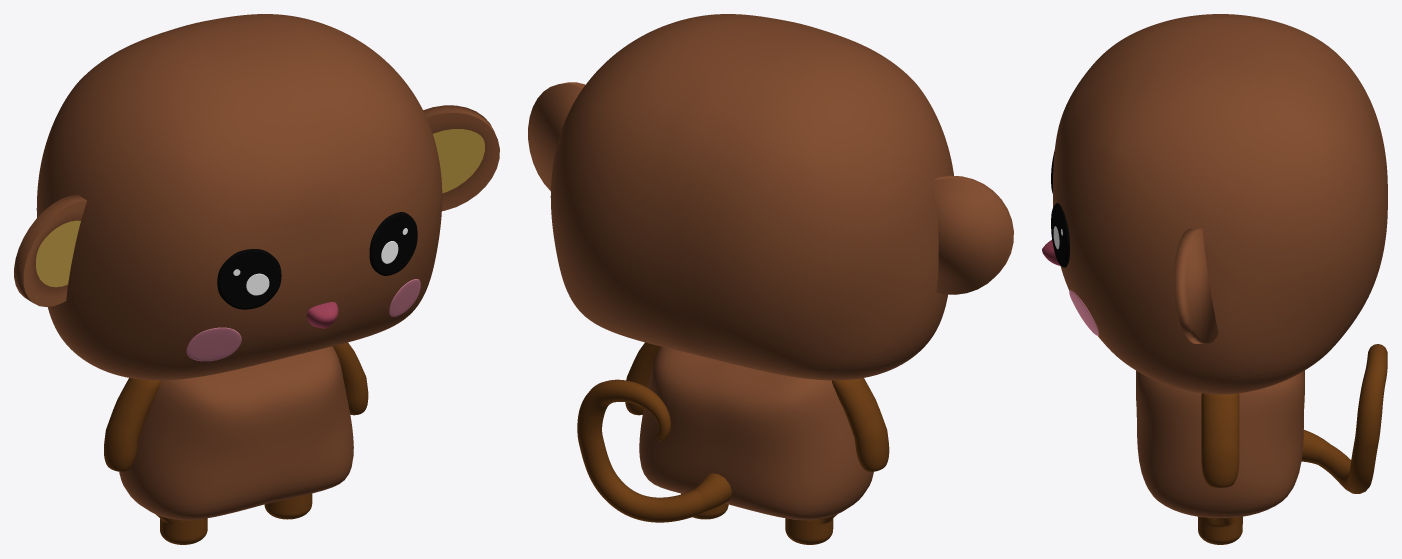
Rendered from Monkey Final.glb.
3 renders of one model, left to right at view 1: azimuth 30°, elevation 25°; view 2: azimuth 150°, elevation 25°; view 3: azimuth 270°, elevation 25°, orthographic. The views are drawn at different scales.
Parts seen in each view (by area): view 1: Cube, Cube.001, Cylinder.003, Plane.002, Cylinder.001, Plane.001, Cylinder, Plane.003, Cube.005; view 2: Cube, Cube.001, Cylinder.003, BézierCurve, Cylinder.001, Cylinder; view 3: Cube, Cube.001, BézierCurve, Cylinder.003, Cylinder.001, Cylinder, Plane.002, Plane.001.
Part boxes in pixels (x1,y1,x2,y2): Cube: (36, 14, 442, 380); Cube.001: (119, 346, 353, 520); Cylinder.003: (14, 105, 499, 306); Plane.002: (217, 212, 417, 309); Cylinder.001: (104, 342, 368, 471); Plane.001: (186, 279, 420, 361); Cylinder: (156, 493, 312, 544); Plane.003: (246, 241, 398, 295); Cube.005: (306, 302, 338, 328); Cube: (550, 14, 953, 380); Cube.001: (639, 346, 873, 520); Cylinder.003: (528, 82, 1013, 294); BézierCurve: (577, 379, 731, 522); Cylinder.001: (625, 342, 889, 471); Cylinder: (681, 493, 837, 544); Cube: (1053, 14, 1387, 394); Cube.001: (1136, 370, 1304, 518); BézierCurve: (1301, 344, 1387, 493); Cylinder.003: (1174, 228, 1218, 343); Cylinder.001: (1201, 393, 1239, 487); Cylinder: (1198, 516, 1242, 544); Plane.002: (1051, 151, 1069, 267); Plane.001: (1069, 290, 1098, 335).
Bounding box in the file's own units: 6.22 × 5.99 × 3.98.
